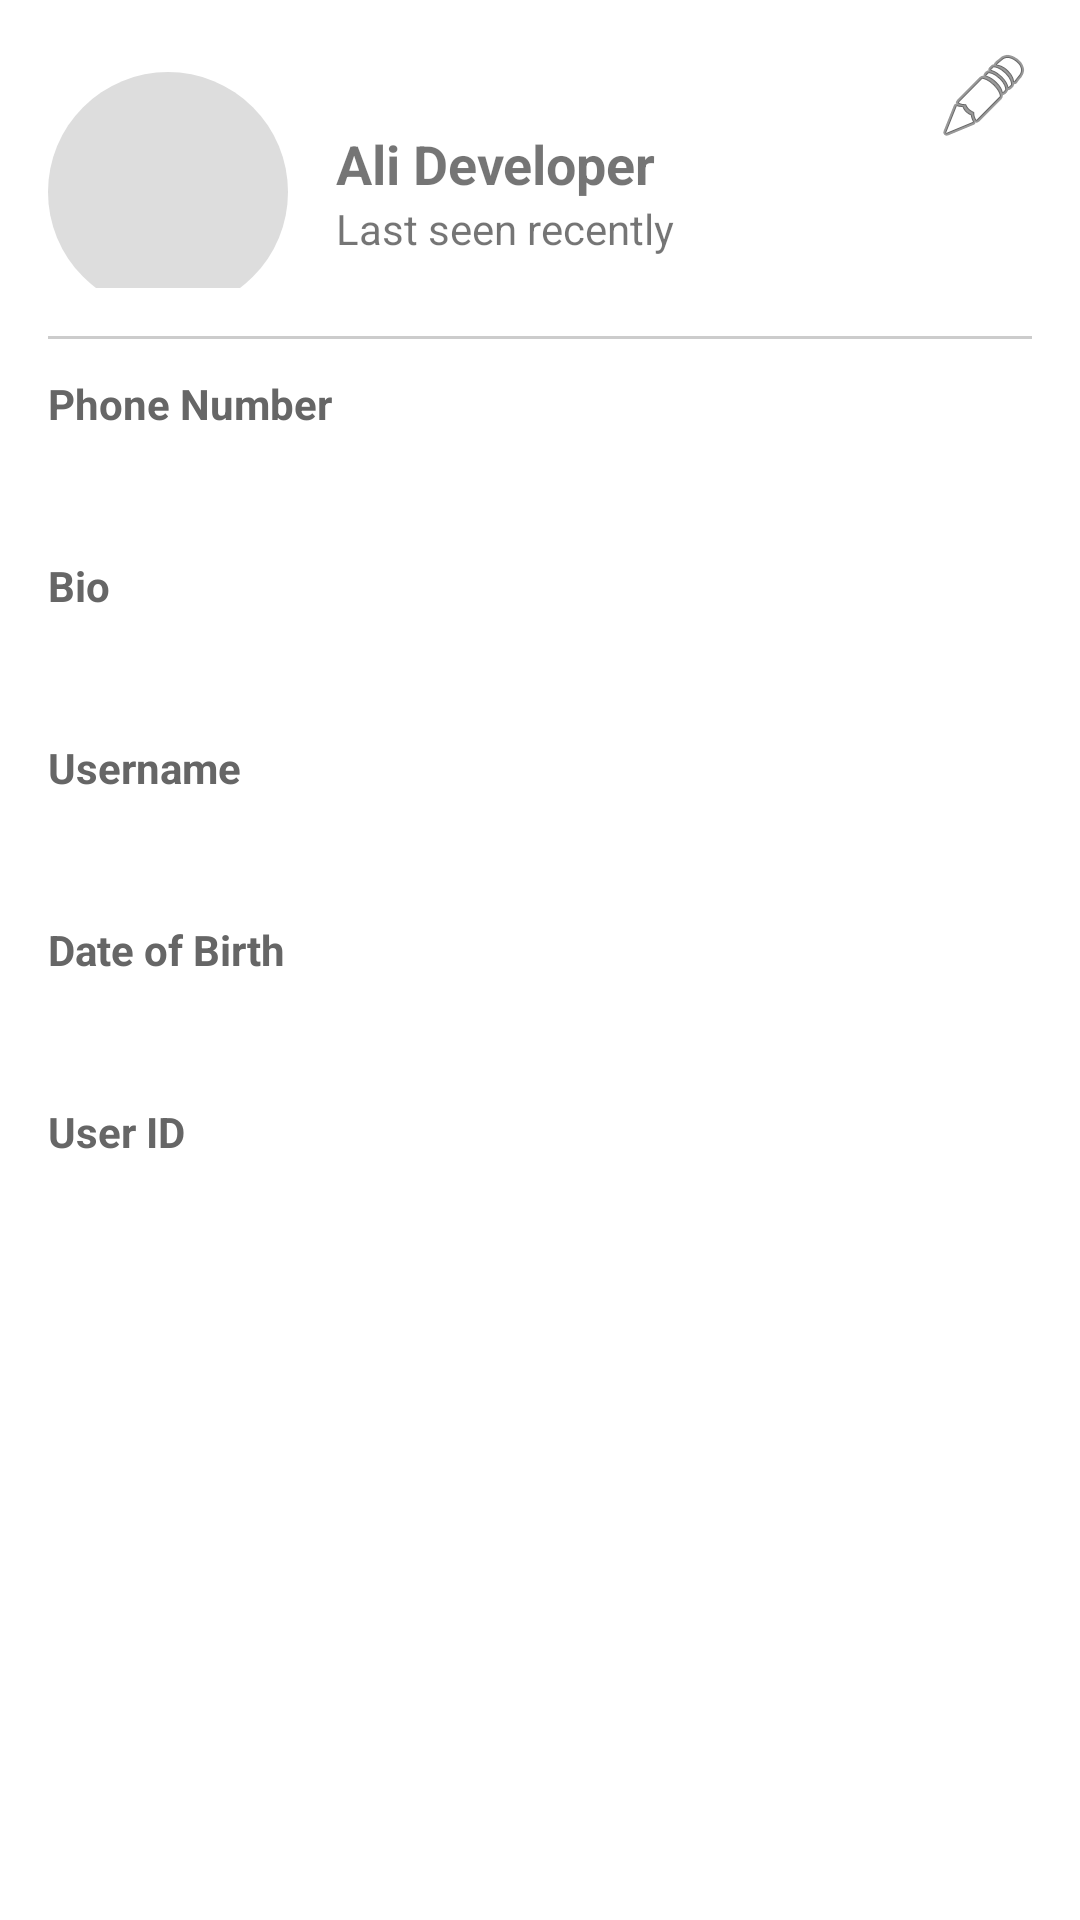

Screen size 1080px x 1920px. Icon name, then its center in pixels as point (x, y):
edit: point (983, 95)
